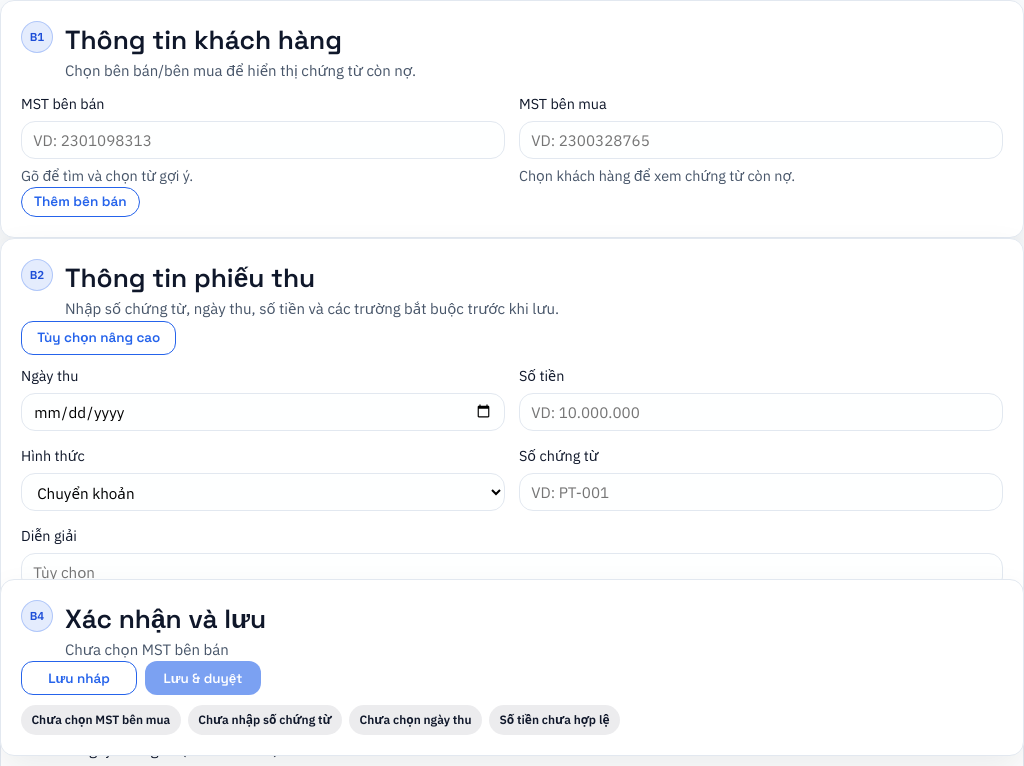
Test: ReceiptFormSection validation › requires receipt number before saving a draft
Type "SELLER01" into the field with placeholder "VD: 2301098313" at (263, 140), box [21,121,505,159]
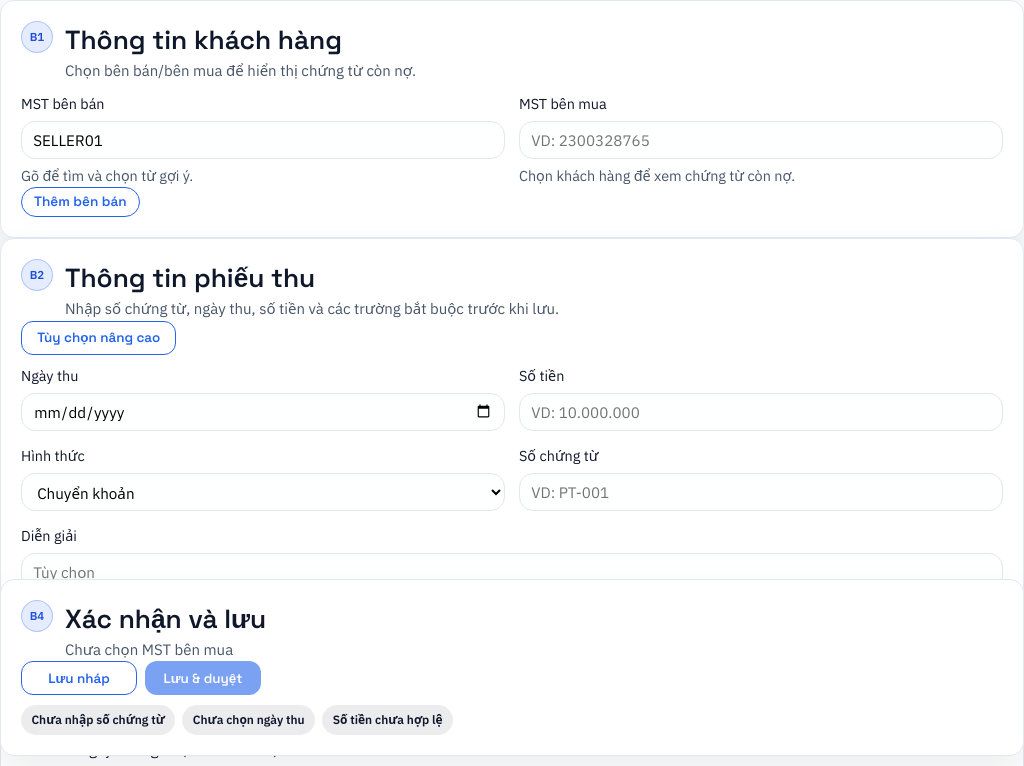
Type "CUST01" into the field with placeholder "VD: 2300328765" at (761, 140), box [519,121,1003,159]
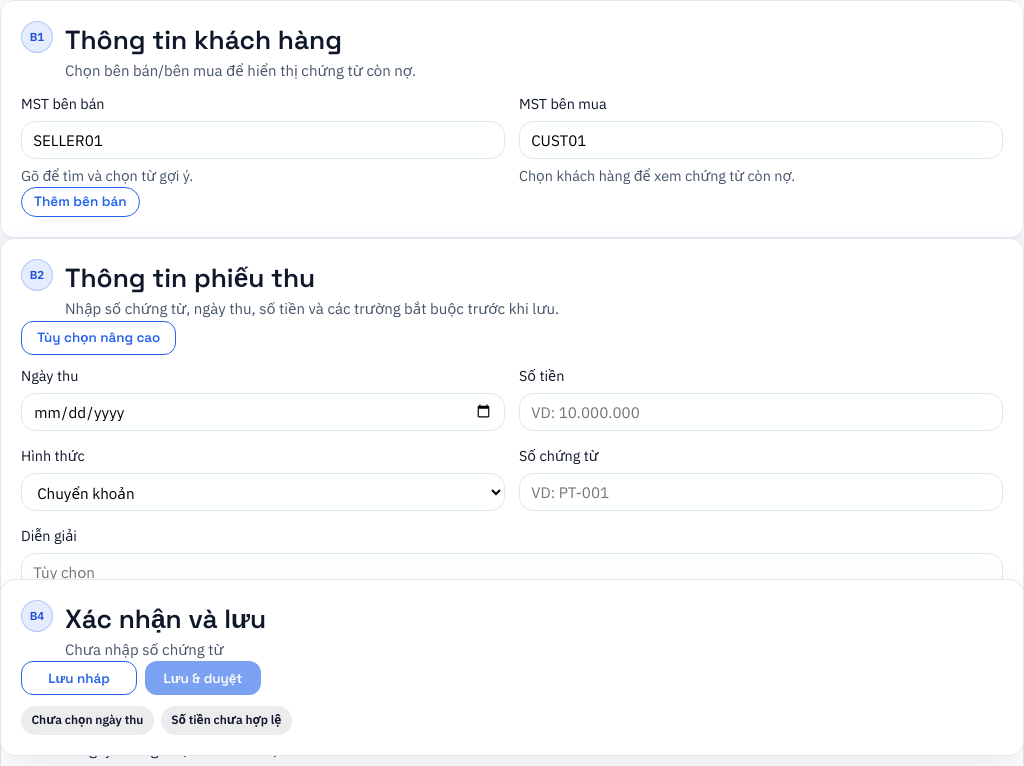
Type "2026-03-20" into the date field labelled "Ngày thu" at (263, 412), box [21,393,505,431]
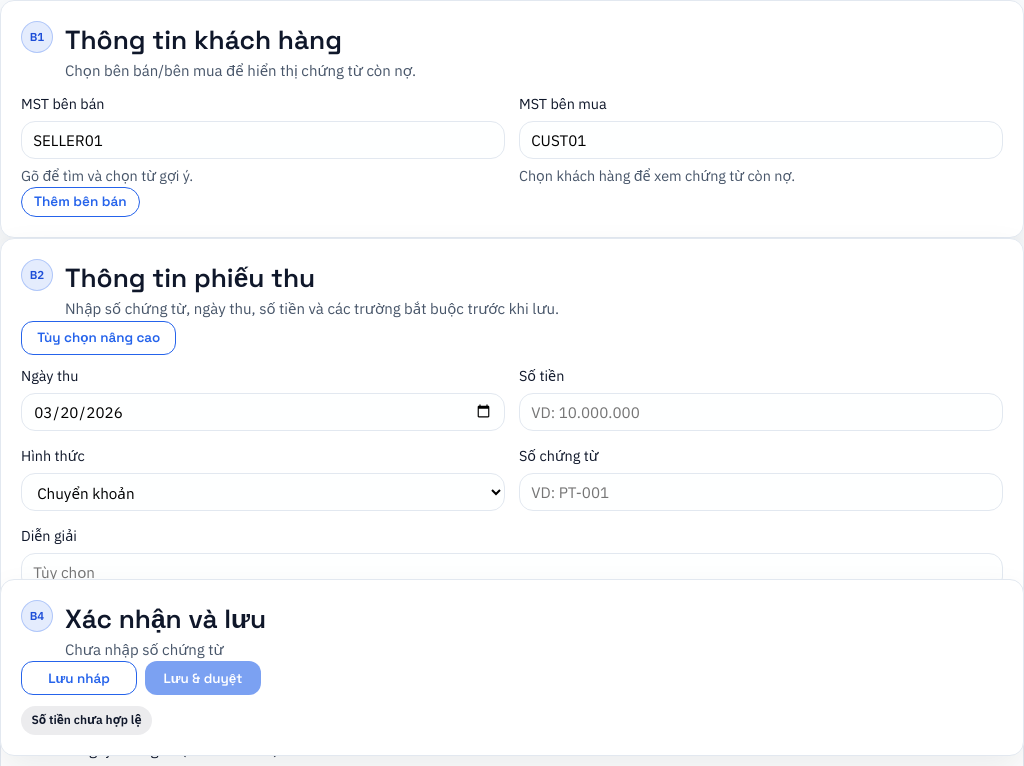
Type "100000" into the field labelled "Số tiền" at (761, 412), box [519,393,1003,431]
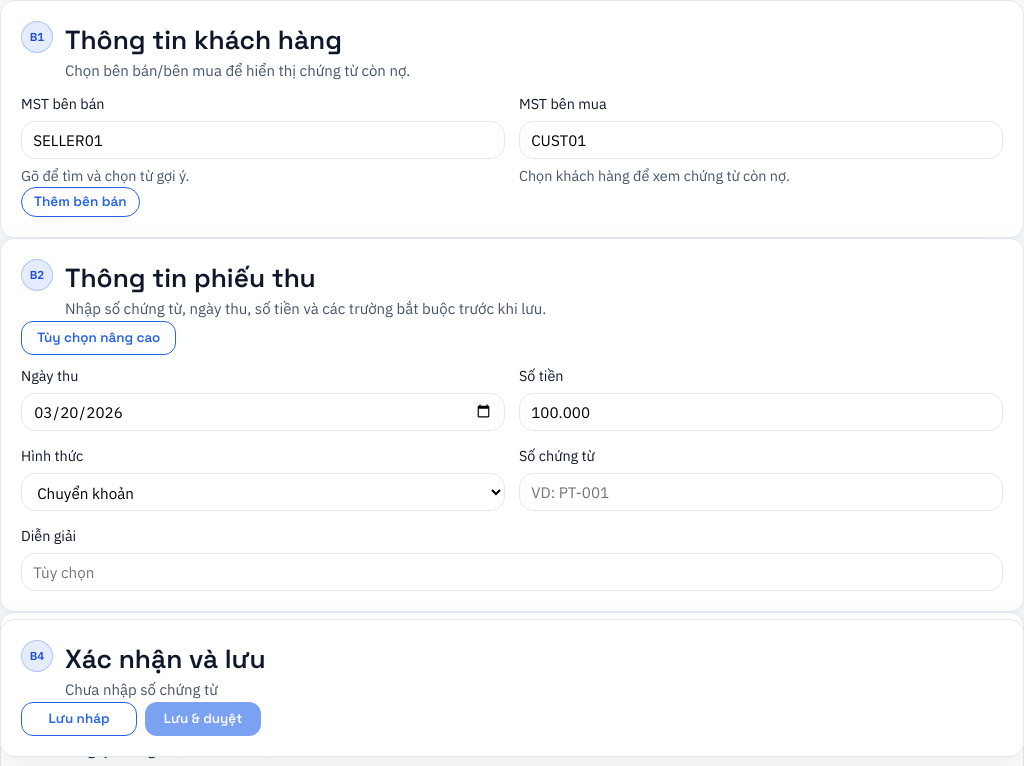
Click the button "Lưu nháp" at (79, 718), box [21,701,137,735]
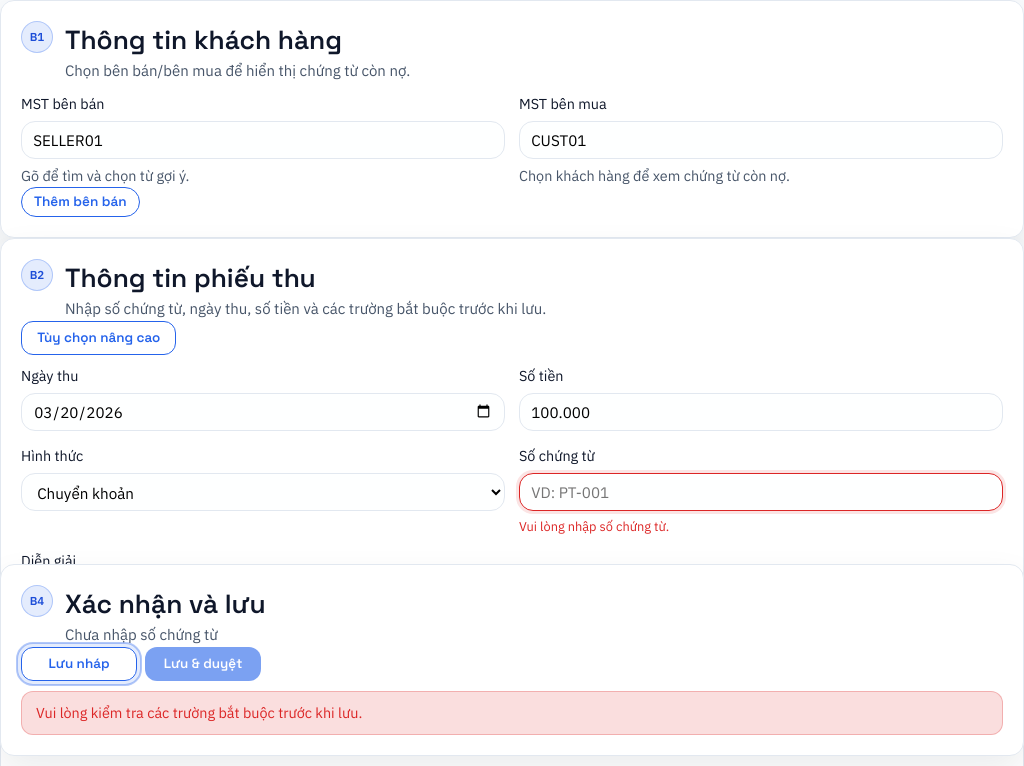
Expected: the text "Vui lòng nhập số chứng từ." is shown, [519,518,669,535]
